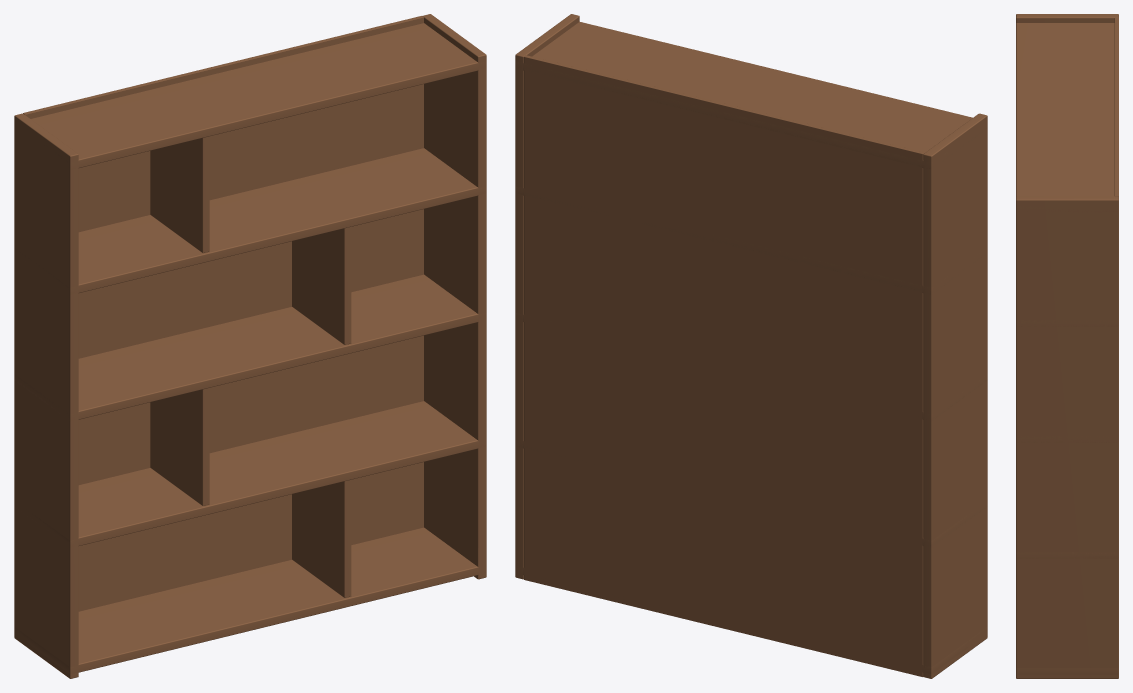
Rendered from shelf-walnut-grid.glb.
3 renders of one model, left to right at view 1: azimuth 30°, elevation 25°; view 2: azimuth 150°, elevation 25°; view 3: azimuth 270°, elevation 25°, orthographic. The views are drawn at different scales.
Visible parts, largest first — view 1: catalog_surface_RealismUV; view 2: catalog_surface_RealismUV; view 3: catalog_surface_RealismUV.
Part boxes in pixels (box(x1,y1,x2,y2)): catalog_surface_RealismUV: box(14, 14, 486, 678); catalog_surface_RealismUV: box(515, 14, 987, 678); catalog_surface_RealismUV: box(1016, 14, 1118, 678).
Bounding box in the file's own units: 1.5 × 1.8 × 0.35.
